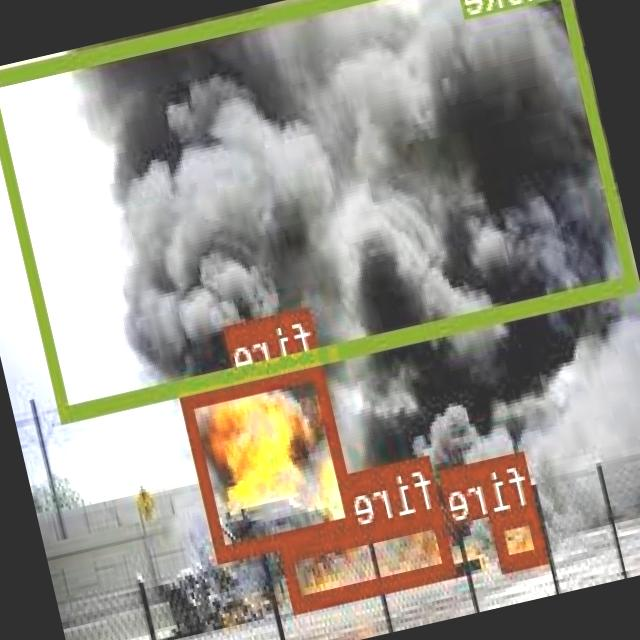fire: (182, 360, 360, 560), (280, 506, 458, 610), (492, 504, 549, 570)
smoke: (0, 0, 638, 417)
